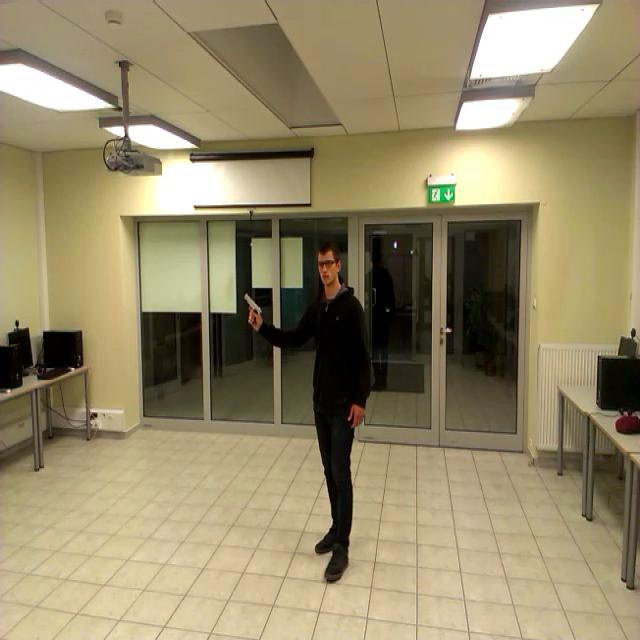handgun: (238, 285, 268, 346)
